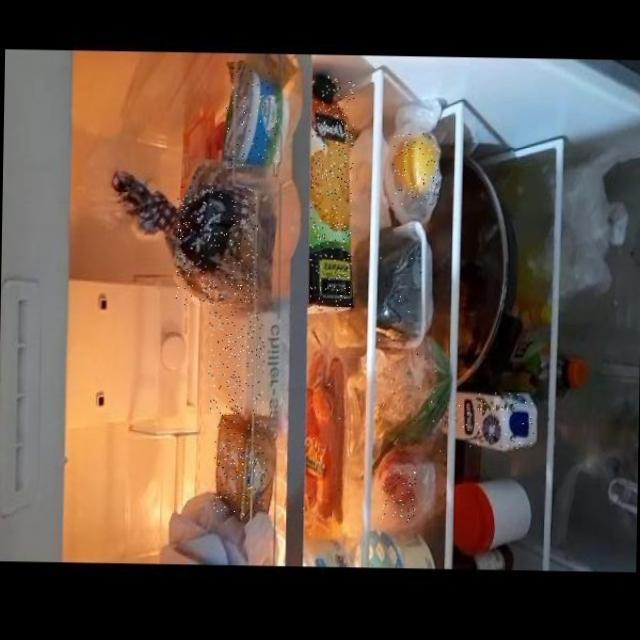Brocoli: (376, 225, 422, 341)
Limón: (392, 131, 440, 204)
Mantequilla: (213, 417, 267, 514)
Queso: (207, 311, 265, 416)
Yogur: (224, 69, 280, 166)
Zanahoria: (303, 352, 342, 519)
bread: (176, 184, 259, 305)
green chilies: (384, 343, 449, 453)
juice: (308, 74, 354, 309)
milk: (458, 391, 536, 448)
tomato paste: (381, 470, 417, 522)
